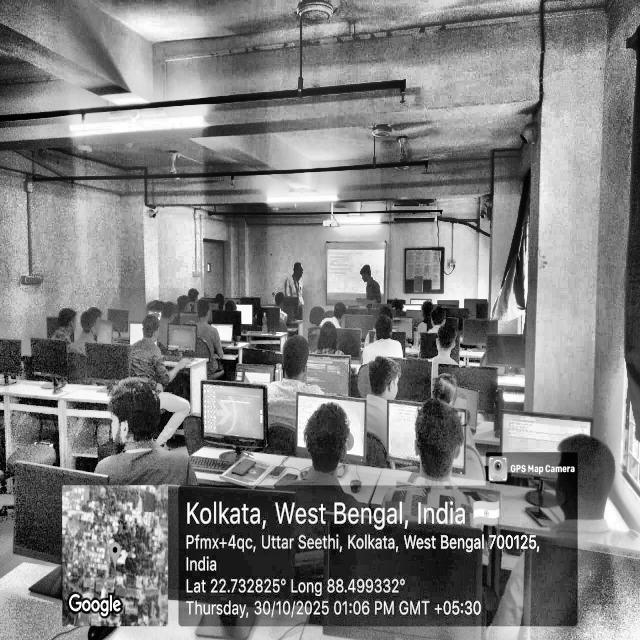Focus: (369, 335, 504, 431), (300, 383, 366, 466), (58, 302, 176, 346), (412, 408, 470, 497), (164, 283, 231, 342), (420, 310, 476, 372), (278, 331, 320, 396), (348, 251, 387, 303), (308, 304, 359, 330), (288, 258, 314, 298)
Not Focus: (99, 367, 186, 453)
